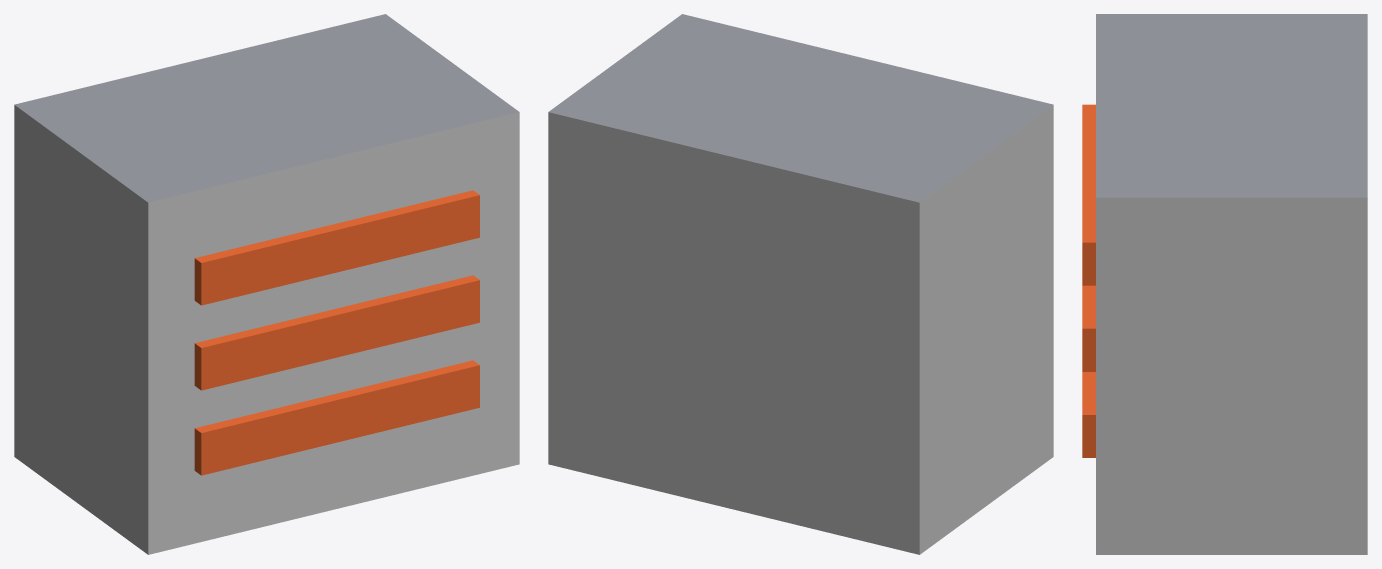
The model's file is heater.obj.
3 renders of one model, left to right at view 1: azimuth 30°, elevation 25°; view 2: azimuth 150°, elevation 25°; view 3: azimuth 270°, elevation 25°, orthographic.
Parts seen in each view (by area): view 1: heater; view 2: heater; view 3: heater.
Boxes of the visible parts, x1=… form: heater: x1=14, y1=14, x2=519, y2=554; heater: x1=548, y1=14, x2=1053, y2=554; heater: x1=1082, y1=14, x2=1367, y2=554.
Bounding box in the file's own units: 0.64 × 0.58 × 0.42.
